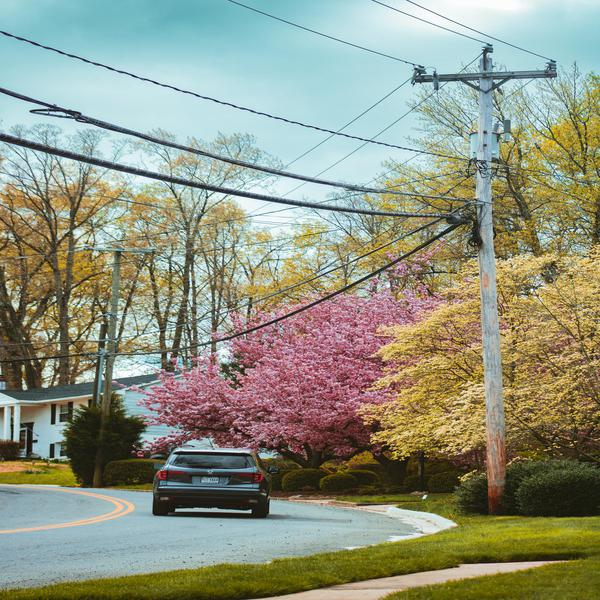utility_pole: (402, 34, 564, 185)
